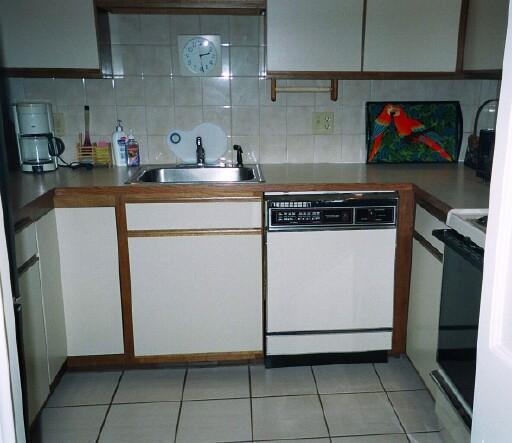Electrodomestico: (261, 185, 395, 369), (433, 226, 487, 436)
Lavaplatos: (135, 134, 260, 186)
